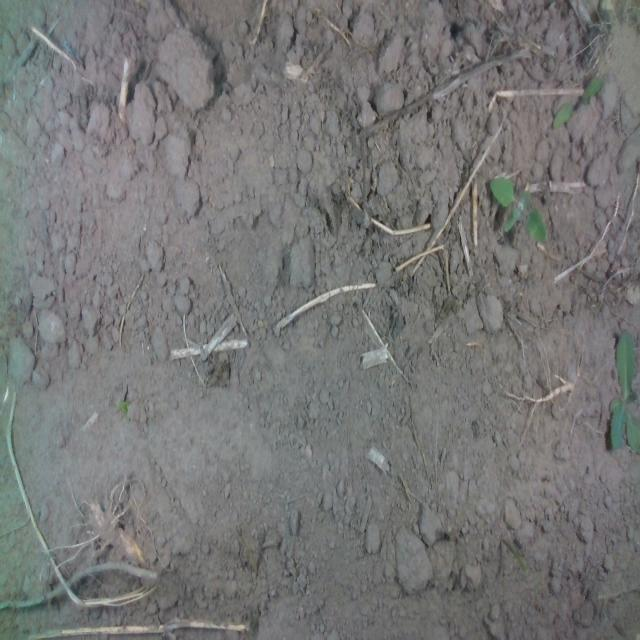weed: (488, 173, 546, 244), (551, 70, 603, 130)
